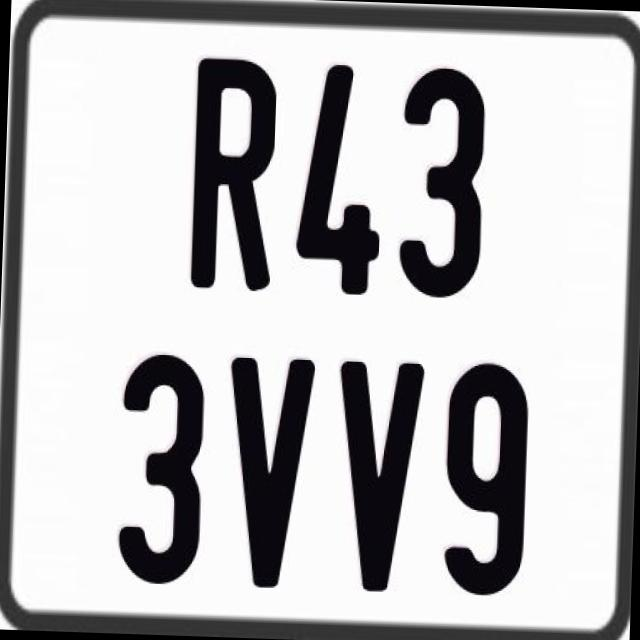3: (114, 350, 210, 590), (396, 61, 486, 296)
4: (292, 63, 388, 296)
9: (440, 358, 532, 593)
R: (189, 55, 284, 293)
V: (331, 359, 429, 591), (220, 355, 312, 591)
